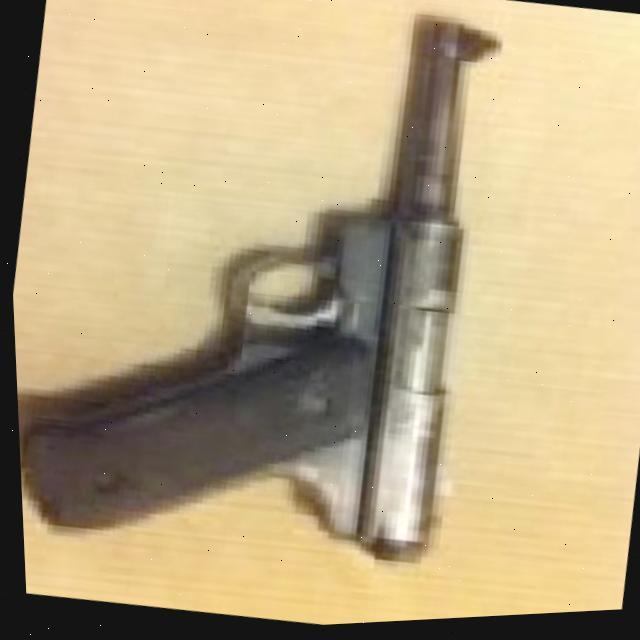gun: (0, 0, 525, 605)
